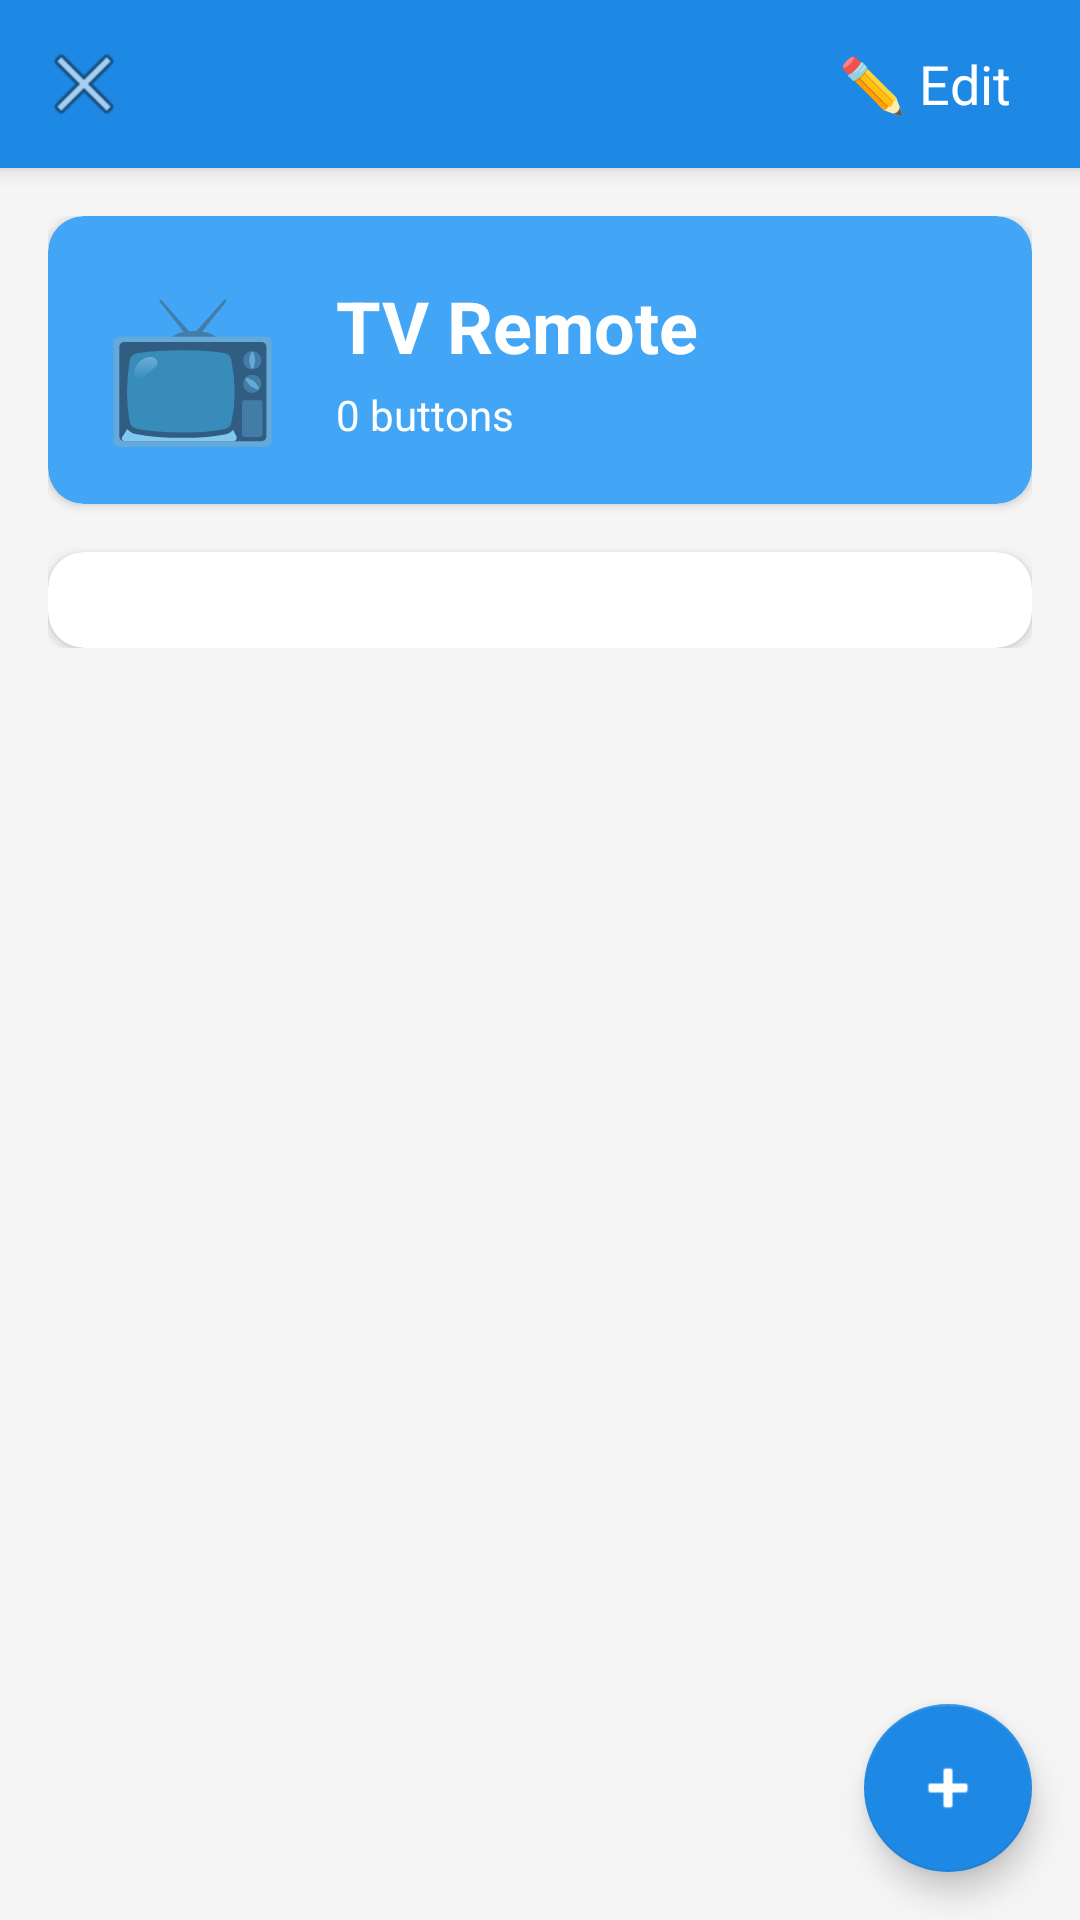

Where to tap for icons on this 1080*1920 app screen, as [x,y]:
Add new button: [948,1788]
